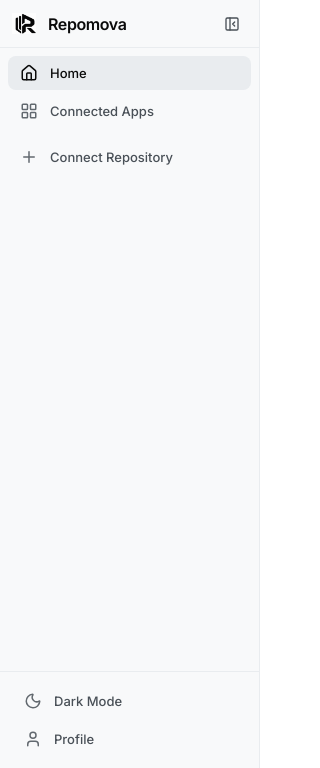
Scenario: Authentication Flow, Dedicated Pages & Profile Menu › Profile Menu for Signed-Out Users › selecting Settings from the profile menu navigates to Settings view
Click the button "Profile" at point(130, 739), box [12,722,247,756]
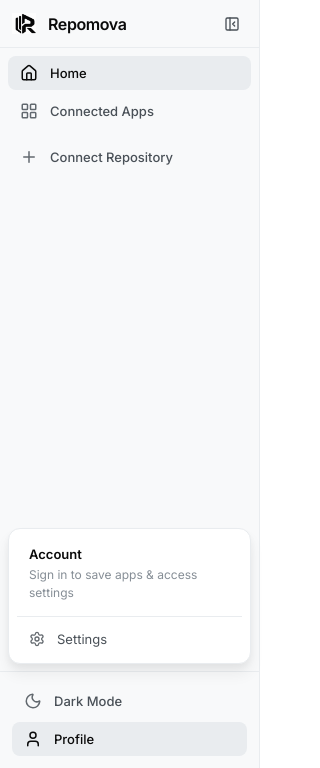
Click the menu item "Settings" at point(130, 639), box [17,623,242,655]
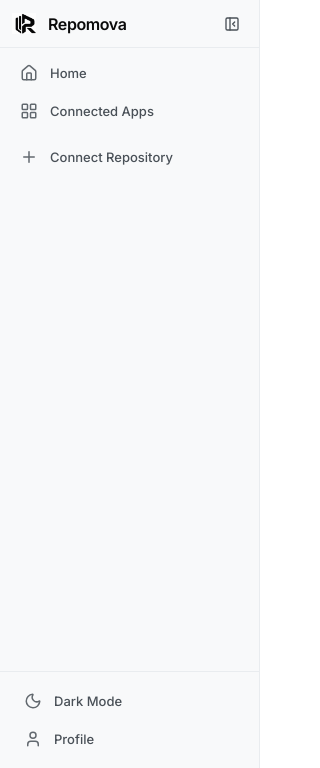
Result: the menu is gone
